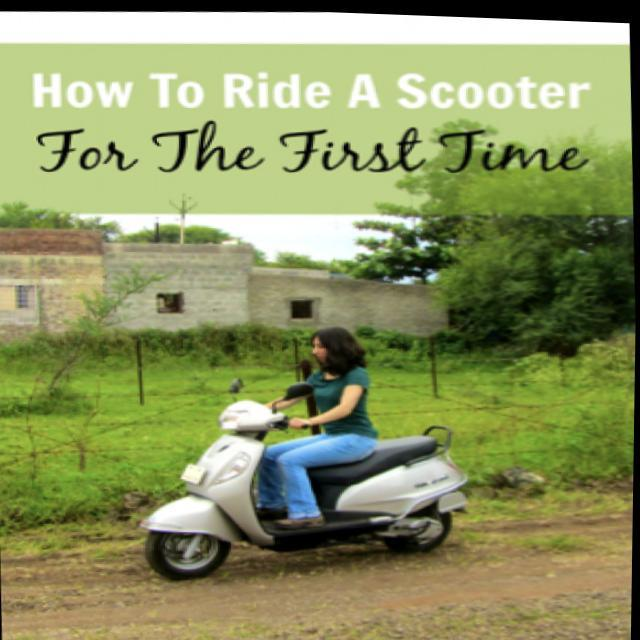Nonhelmet: (294, 316, 368, 386)
